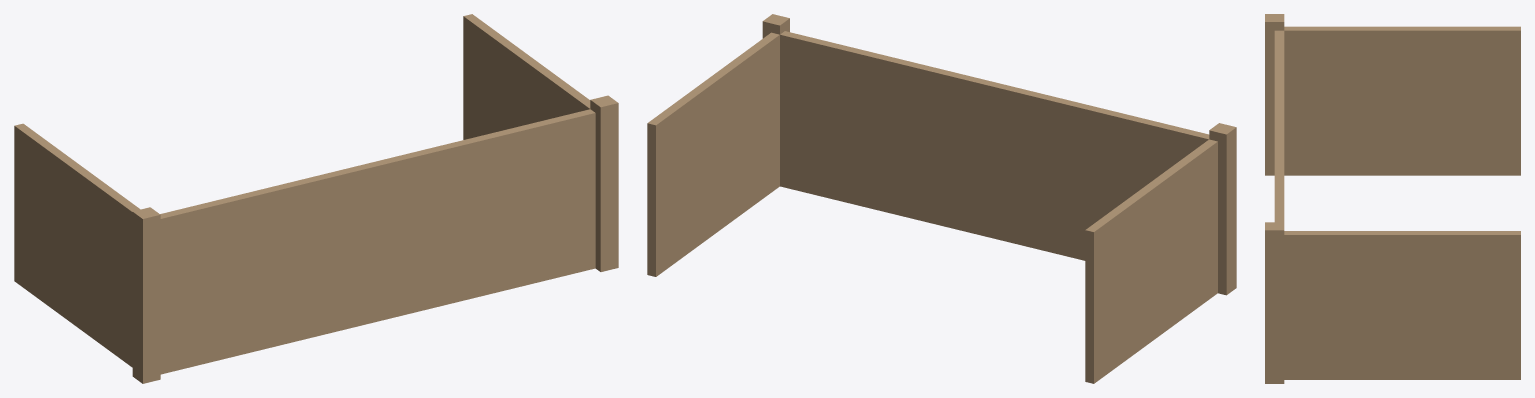
Rendered from SM_Fence_Small.fbx.
The picture shows the model from 3 angles, left to right: view 1: azimuth 30°, elevation 25°; view 2: azimuth 150°, elevation 25°; view 3: azimuth 270°, elevation 25°; orthographic projection. The views are drawn at different scales.
Visible parts, largest first — view 1: SM_Fence_Small; view 2: SM_Fence_Small; view 3: SM_Fence_Small.
Part boxes in pixels (x1,y1,x2,y2): SM_Fence_Small: [14, 14, 618, 383]; SM_Fence_Small: [647, 14, 1236, 383]; SM_Fence_Small: [1265, 14, 1520, 383].
Size of the model in its own units: 576 by 191 by 288.
